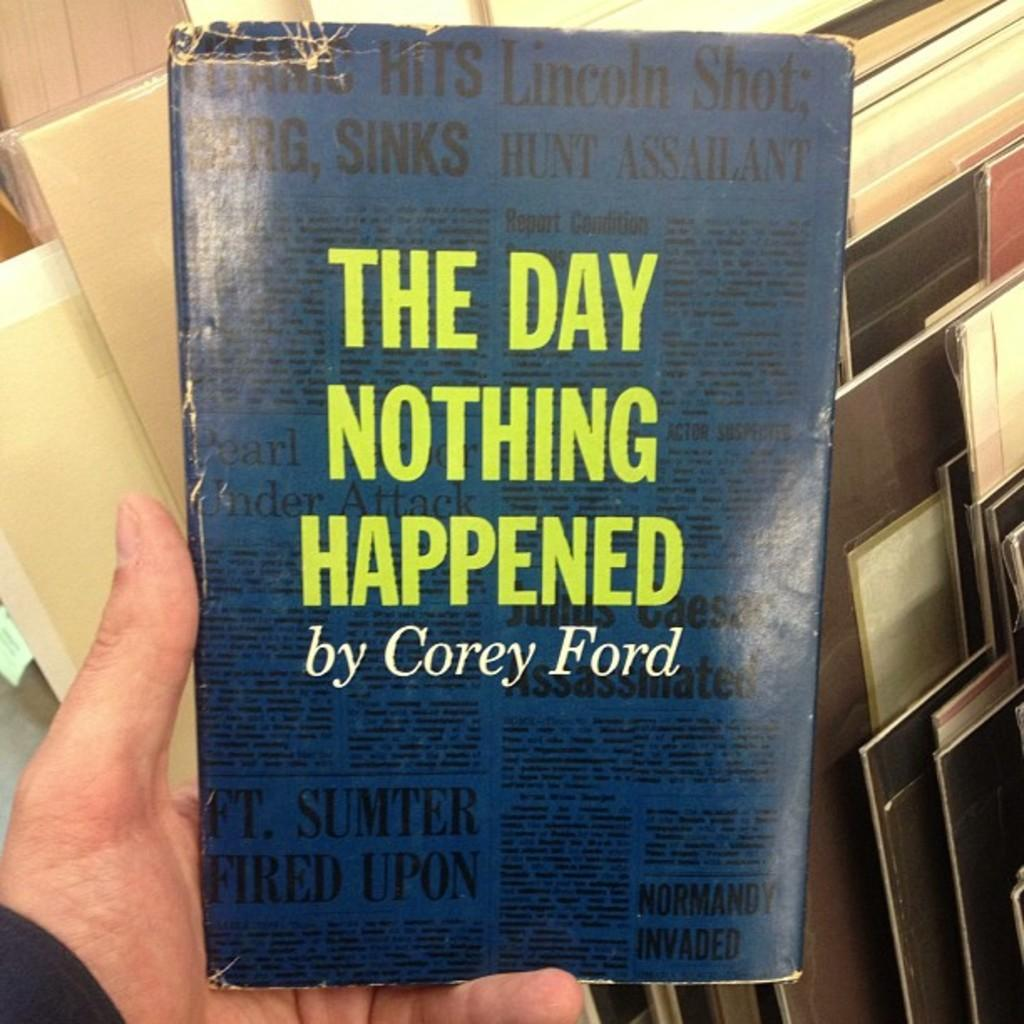book: (170, 24, 864, 988)
